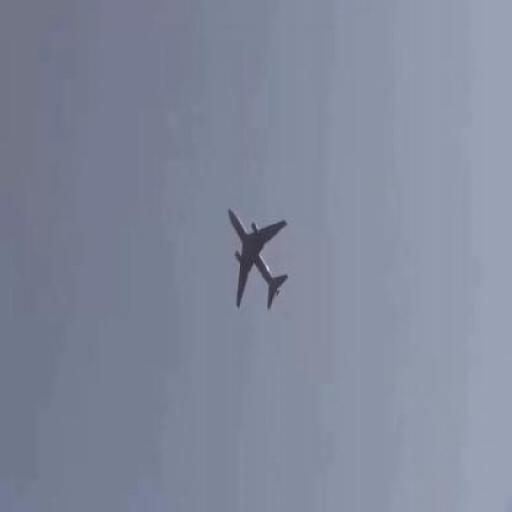aircraft: (228, 211, 289, 310)
